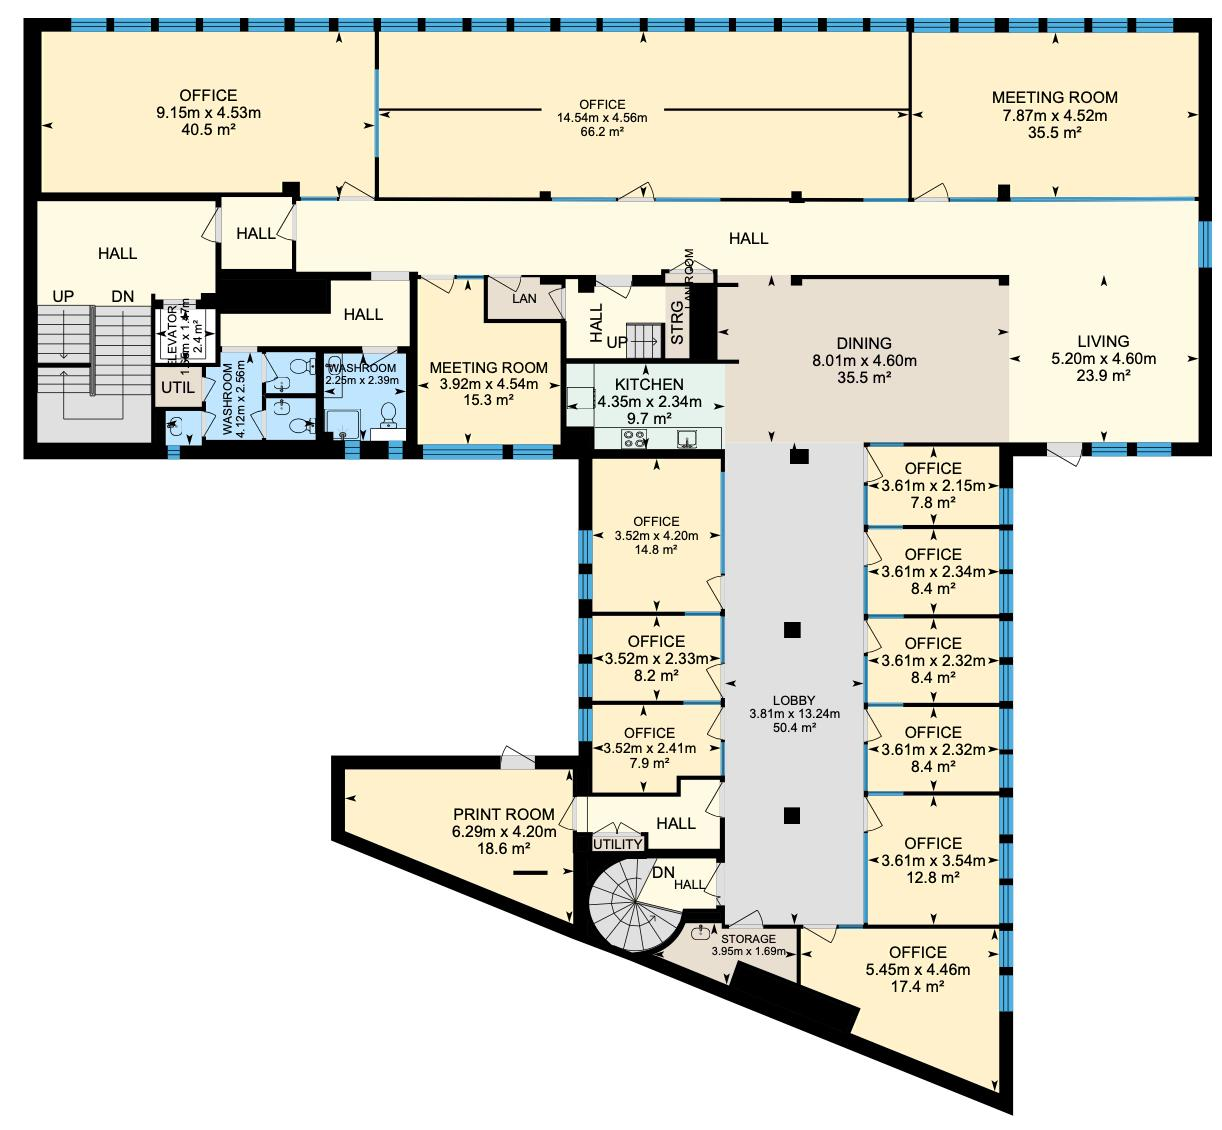room: (378, 28, 910, 199), (33, 24, 377, 197), (911, 23, 1200, 199), (338, 759, 583, 937), (798, 927, 1006, 1100), (414, 275, 562, 452), (587, 454, 723, 614), (865, 794, 1006, 926), (564, 362, 724, 455), (219, 273, 413, 348), (584, 702, 722, 795), (864, 527, 1006, 616), (585, 614, 724, 704), (865, 704, 1006, 793), (865, 616, 1006, 703), (564, 280, 713, 362), (865, 444, 1005, 527), (583, 777, 722, 855), (321, 349, 409, 446), (217, 195, 295, 271), (204, 348, 264, 446), (264, 395, 317, 445), (264, 350, 317, 395)
